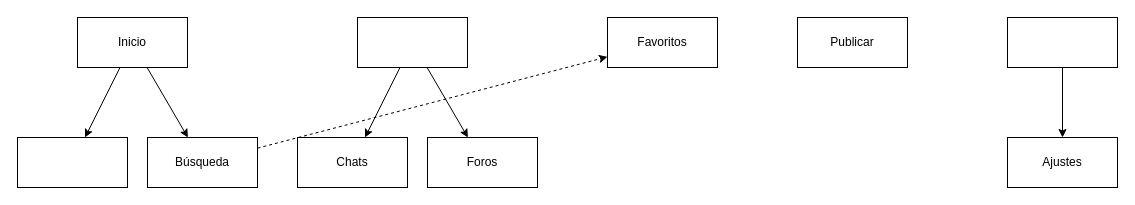
Image size: 1135x205. Some labels were removed from this diagram. Here are the shapes that lost their labels. From the top down, the centre of each, then its label:
the point at 412,42: Conversaciones
the point at 1062,42: Perfil
the point at 72,162: Feed
